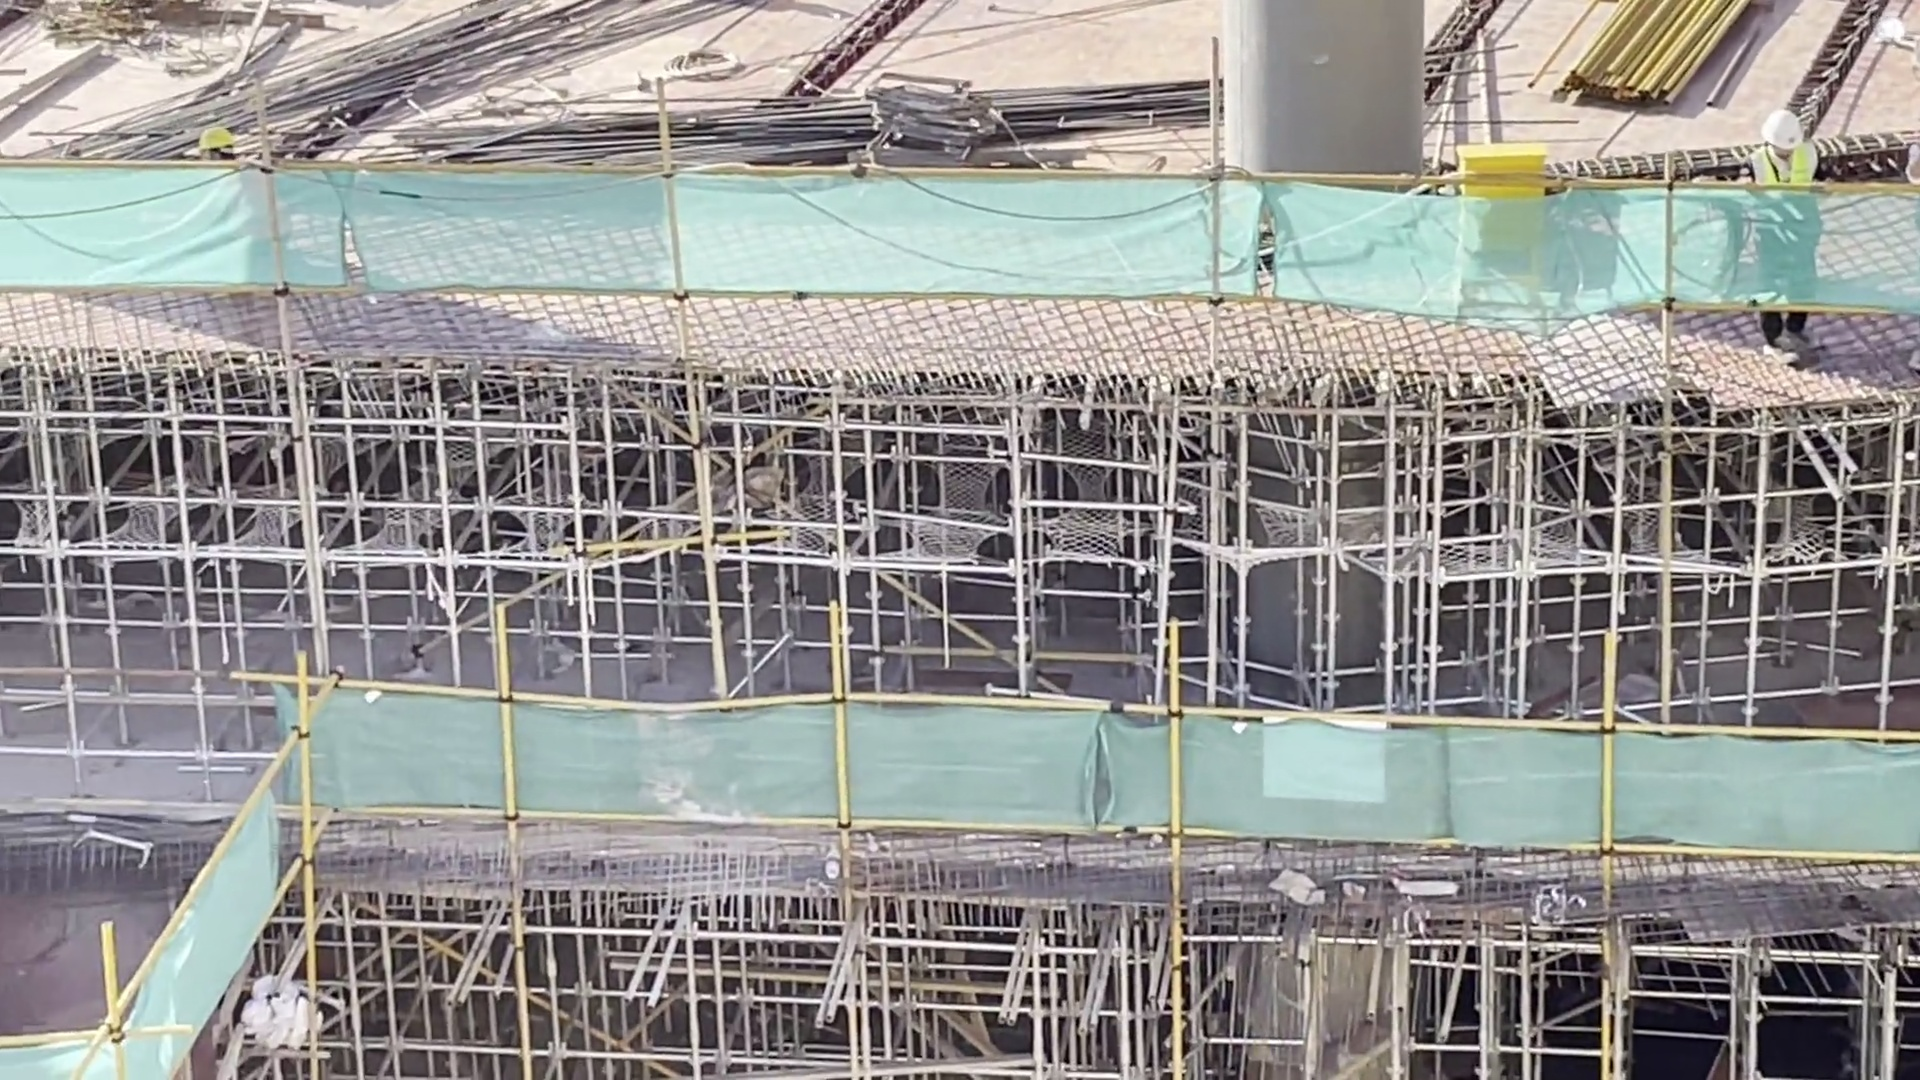ebox: (1444, 128, 1584, 316)
helmet: (1755, 100, 1800, 146)
person: (1737, 123, 1825, 339)
vest: (1756, 141, 1817, 219)
